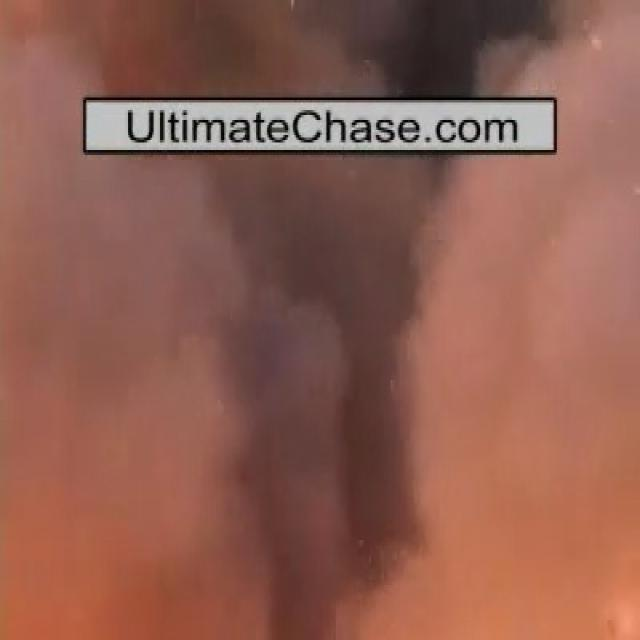Smoke: (49, 168, 576, 602)
